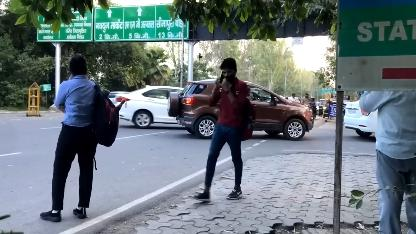car: (170, 71, 316, 139)
